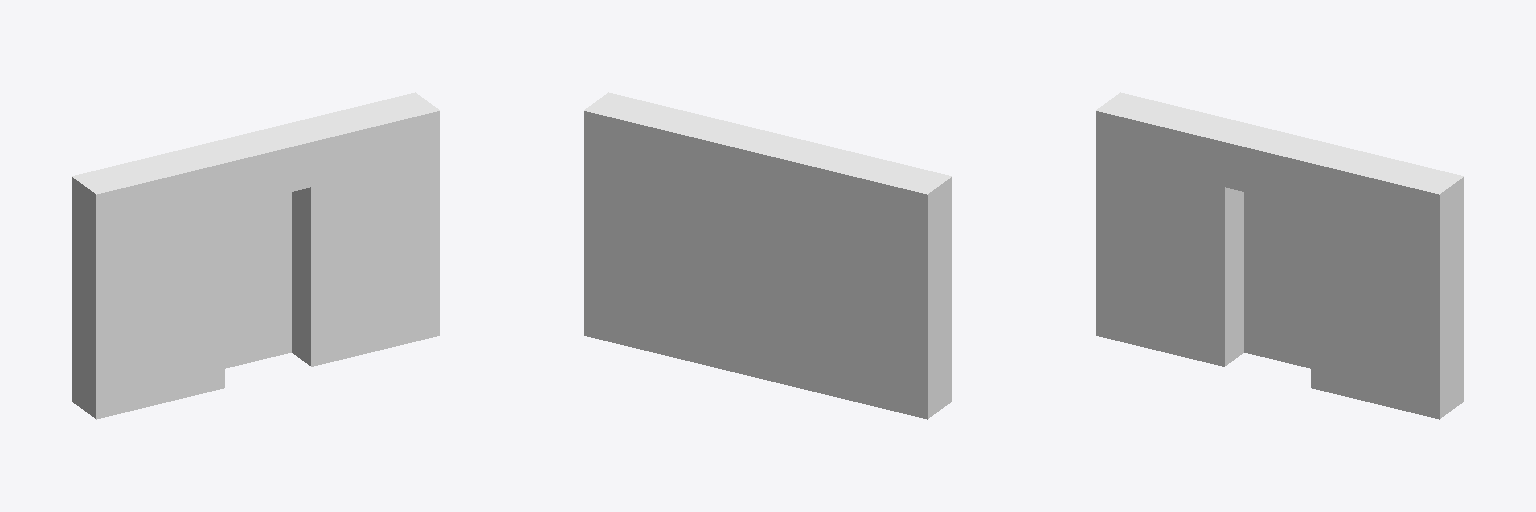
File: simple_door.obj
3 views of the same model, side by side, from view 1: azimuth 30°, elevation 25°; view 2: azimuth 150°, elevation 25°; view 3: azimuth 330°, elevation 25° (orthographic).
Parts seen in each view (by area): view 1: building-door; view 2: building-door; view 3: building-door.
Boxes of the visible parts, x1,y1,x2,y2 form: building-door: [72, 92, 439, 419]; building-door: [584, 92, 951, 419]; building-door: [1096, 92, 1463, 419].
Bounding box in the file's own units: 1 × 0.625 × 0.1254.